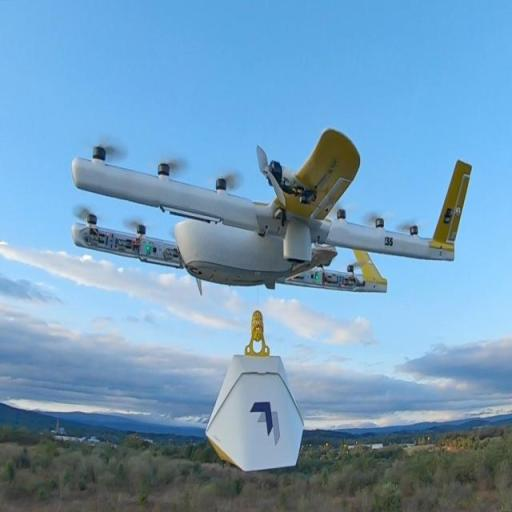uav: (45, 118, 474, 310)
